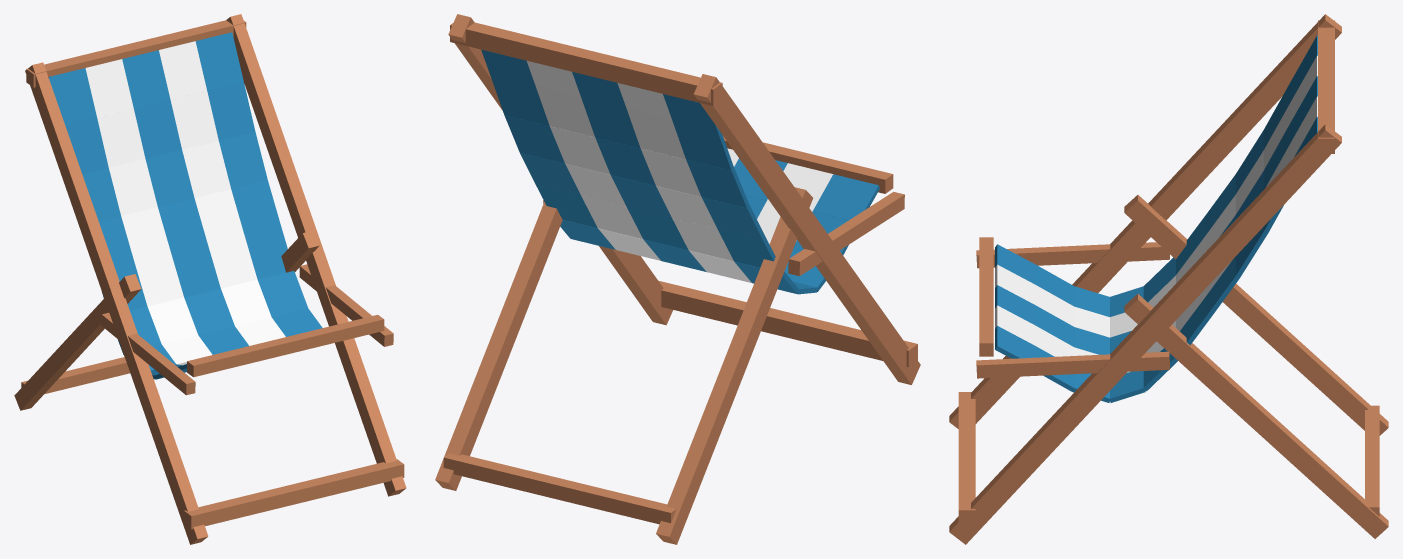
File: deckChair.glb
3 views of the same model, side by side, from view 1: azimuth 30°, elevation 25°; view 2: azimuth 150°, elevation 25°; view 3: azimuth 270°, elevation 25° (orthographic). The views are drawn at different scales.
Visible parts, largest first — view 1: #CF885E, #2A8ABE, #FFFFFF; view 2: #CF885E, #2A8ABE, #FFFFFF; view 3: #CF885E, #2A8ABE, #FFFFFF.
Part boxes in pixels (x1,y1,x2,y2): #CF885E: (14, 14, 406, 544); #2A8ABE: (48, 32, 322, 379); #FFFFFF: (85, 41, 285, 365); #CF885E: (435, 14, 920, 544); #2A8ABE: (481, 49, 879, 294); #FFFFFF: (526, 61, 833, 282); #CF885E: (949, 14, 1388, 544); #2A8ABE: (995, 35, 1317, 402); #FFFFFF: (995, 55, 1317, 372).
Bounding box in the file's own units: 0.5801 × 0.9491 × 0.9113.
